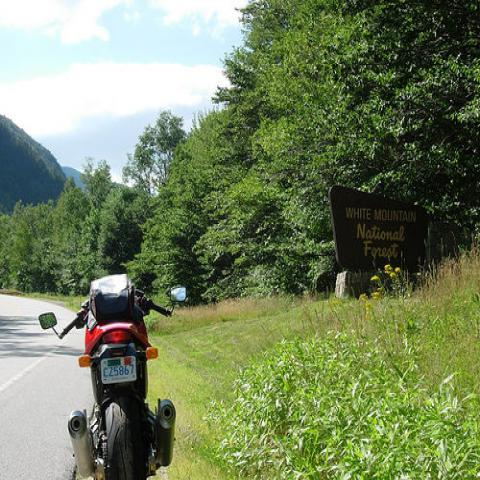motorcycle: (36, 270, 188, 474)
